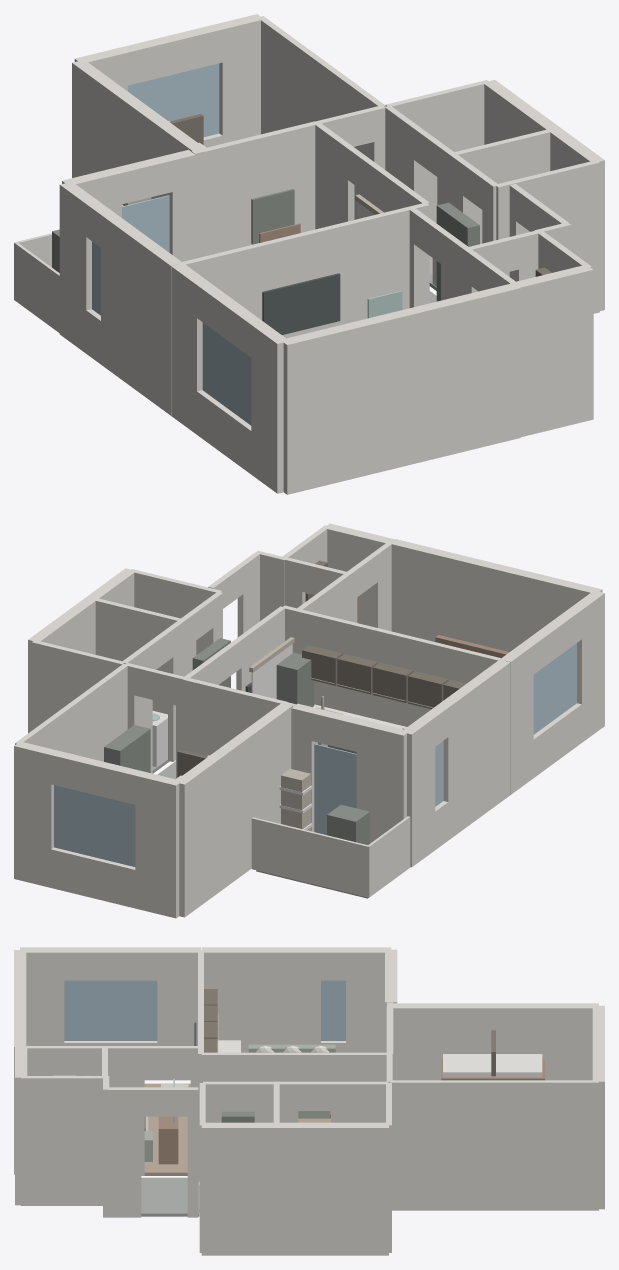
File: kvartira-japandi-school-guest.glb
3 renders of one model, top to bottom at view 1: azimuth 30°, elevation 25°; view 2: azimuth 150°, elevation 25°; view 3: azimuth 270°, elevation 25°, orthographic. The views are drawn at different scales.
Visible parts, largest first — view 1: wall_w_l_s_166_612_0.0, wall_w_dividing_168_644_0.0, wall_w_closet_s_612_752_0.0, wall_w_k_w_559_791_0.0, wall_w_top_s_426_660_0.0, wall_w_top_w_20_423_0.0, wall_w_top_e_20_425_0.0, wall_w_wc_s_777_971_0.0, wall_w_l_w_1057_1143_0.0, wall_w_top_n_691_771_0.0, wall_w_bath_n_777_971_0.0, wall_w_k_w_423_511_0.0 (+40 smaller); view 2: wall_w_l_s_166_612_0.0, wall_w_top_w_20_423_0.0, wall_w_dividing_168_644_0.0, wall_w_k_w_559_791_0.0, wall_w_top_n_422_510_0.0, wall_w_log_n_159_409_0.0, wall_w_top_n_691_771_0.0, wall_w_top_e_20_425_0.0, wall_w_top_n_510_691_0.8, wall_w_k_n1_165_266_0.0, wall_w_k_n2_408_643_0.0, wall_w_bath_n_777_971_0.0 (+51 smaller); view 3: wall_w_top_e_20_425_0.0, wall_w_bath_e_427_791_0.0, wall_w_top_w_20_423_0.0, wall_w_k_w_559_791_0.0, wall_w_closet_e_978_1141_0.0, wall_w_l_w_877_1057_0.8, wall_w_entry_e_908_972_0.0, wall_w_l_w_792_877_0.0, wall_w_k_w_423_511_0.0, wall_w_l_w_1057_1143_0.0, wall_w_l_w_877_1057_2.1, wall_w_k_e_625_790_0.0 (+30 smaller).
Part boxes in pixels (x1,y1,x2,y2): wall_w_l_s_166_612_0.0: (281, 283, 520, 494); wall_w_dividing_168_644_0.0: (178, 202, 429, 338); wall_w_closet_s_612_752_0.0: (516, 265, 593, 437); wall_w_k_w_559_791_0.0: (101, 212, 182, 415); wall_w_top_s_426_660_0.0: (204, 119, 327, 256); wall_w_top_w_20_423_0.0: (72, 60, 204, 199); wall_w_top_e_20_425_0.0: (258, 16, 385, 219); wall_w_wc_s_777_971_0.0: (495, 161, 599, 313); wall_w_l_w_1057_1143_0.0: (251, 322, 289, 493); wall_w_top_n_691_771_0.0: (216, 14, 263, 143); wall_w_bath_n_777_971_0.0: (385, 80, 489, 223); wall_w_k_w_423_511_0.0: (59, 183, 98, 353); wall_w_l_s_166_612_0.0: (390, 539, 602, 651); wall_w_top_w_20_423_0.0: (174, 703, 292, 917); wall_w_dividing_168_644_0.0: (282, 605, 505, 726); wall_w_k_w_559_791_0.0: (437, 659, 510, 840); wall_w_top_n_422_510_0.0: (135, 771, 181, 918); wall_w_log_n_159_409_0.0: (251, 817, 368, 897); wall_w_top_n_691_771_0.0: (14, 742, 56, 887); wall_w_top_e_20_425_0.0: (15, 663, 127, 761); wall_w_top_n_510_691_0.8: (54, 785, 135, 866); wall_w_k_n1_165_266_0.0: (356, 719, 409, 843); wall_w_k_n2_408_643_0.0: (183, 679, 295, 756); wall_w_bath_n_777_971_0.0: (32, 641, 124, 730); wall_w_top_e_20_425_0.0: (390, 1080, 598, 1210); wall_w_bath_e_427_791_0.0: (201, 1122, 388, 1255); wall_w_top_w_20_423_0.0: (391, 1003, 598, 1080); wall_w_k_w_559_791_0.0: (201, 947, 320, 1052); wall_w_closet_e_978_1141_0.0: (21, 1076, 104, 1205); wall_w_l_w_877_1057_0.8: (64, 980, 157, 1040); wall_w_entry_e_908_972_0.0: (108, 1087, 141, 1217); wall_w_l_w_792_877_0.0: (157, 947, 200, 1080); wall_w_k_w_423_511_0.0: (346, 947, 391, 1052); wall_w_l_w_1057_1143_0.0: (20, 947, 64, 1045); wall_w_l_w_877_1057_2.1: (64, 947, 157, 980); wall_w_k_e_625_790_0.0: (202, 1052, 286, 1111).
Size of the model in its own units: 8.24 by 2.77 by 11.41.
